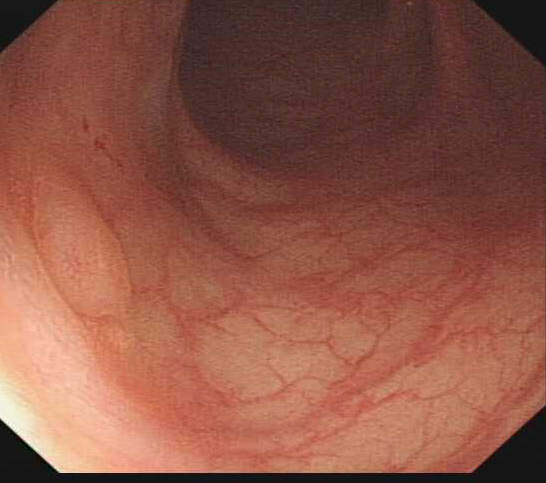adenoma: (30, 161, 136, 323)
